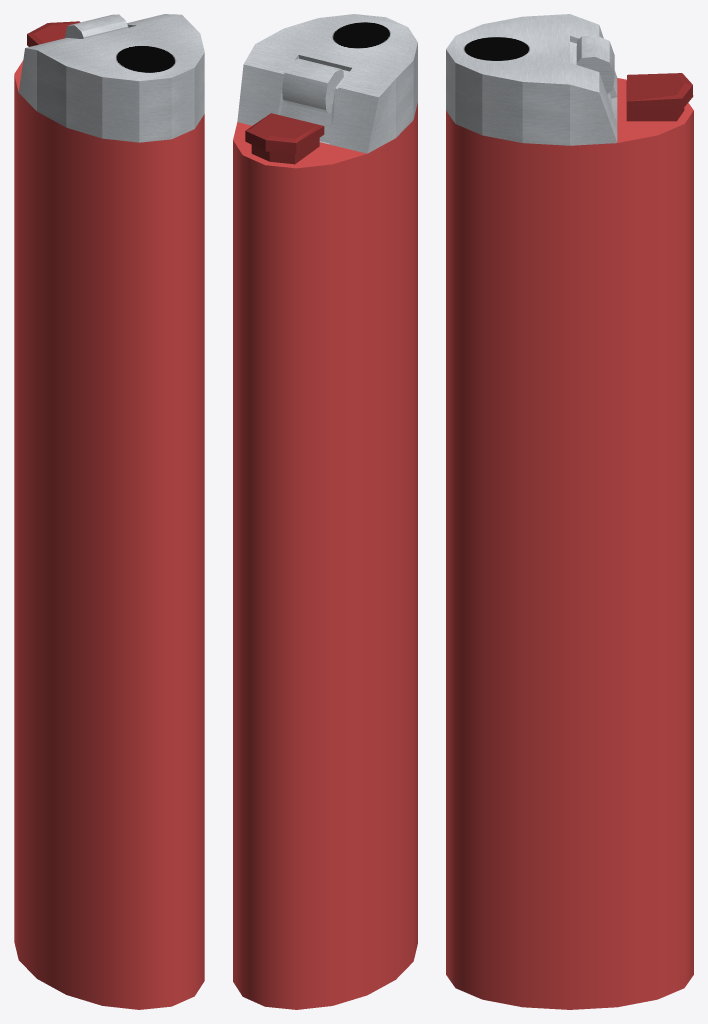
File: Lighter.FBX
The picture shows the model from 3 angles, left to right: view 1: azimuth 30°, elevation 25°; view 2: azimuth 150°, elevation 25°; view 3: azimuth 270°, elevation 25°; orthographic projection. The views are drawn at different scales.
Visible parts, largest first — view 1: Lighter; view 2: Lighter; view 3: Lighter.
Part boxes in pixels (x1,y1,x2,y2): Lighter: (14,14,204,1009); Lighter: (233,14,417,1009); Lighter: (446,14,693,1009).
Bounding box in the file's own units: 0.5304 × 3.25 × 0.7874.
Materials: 1 (1 with a texture image).
